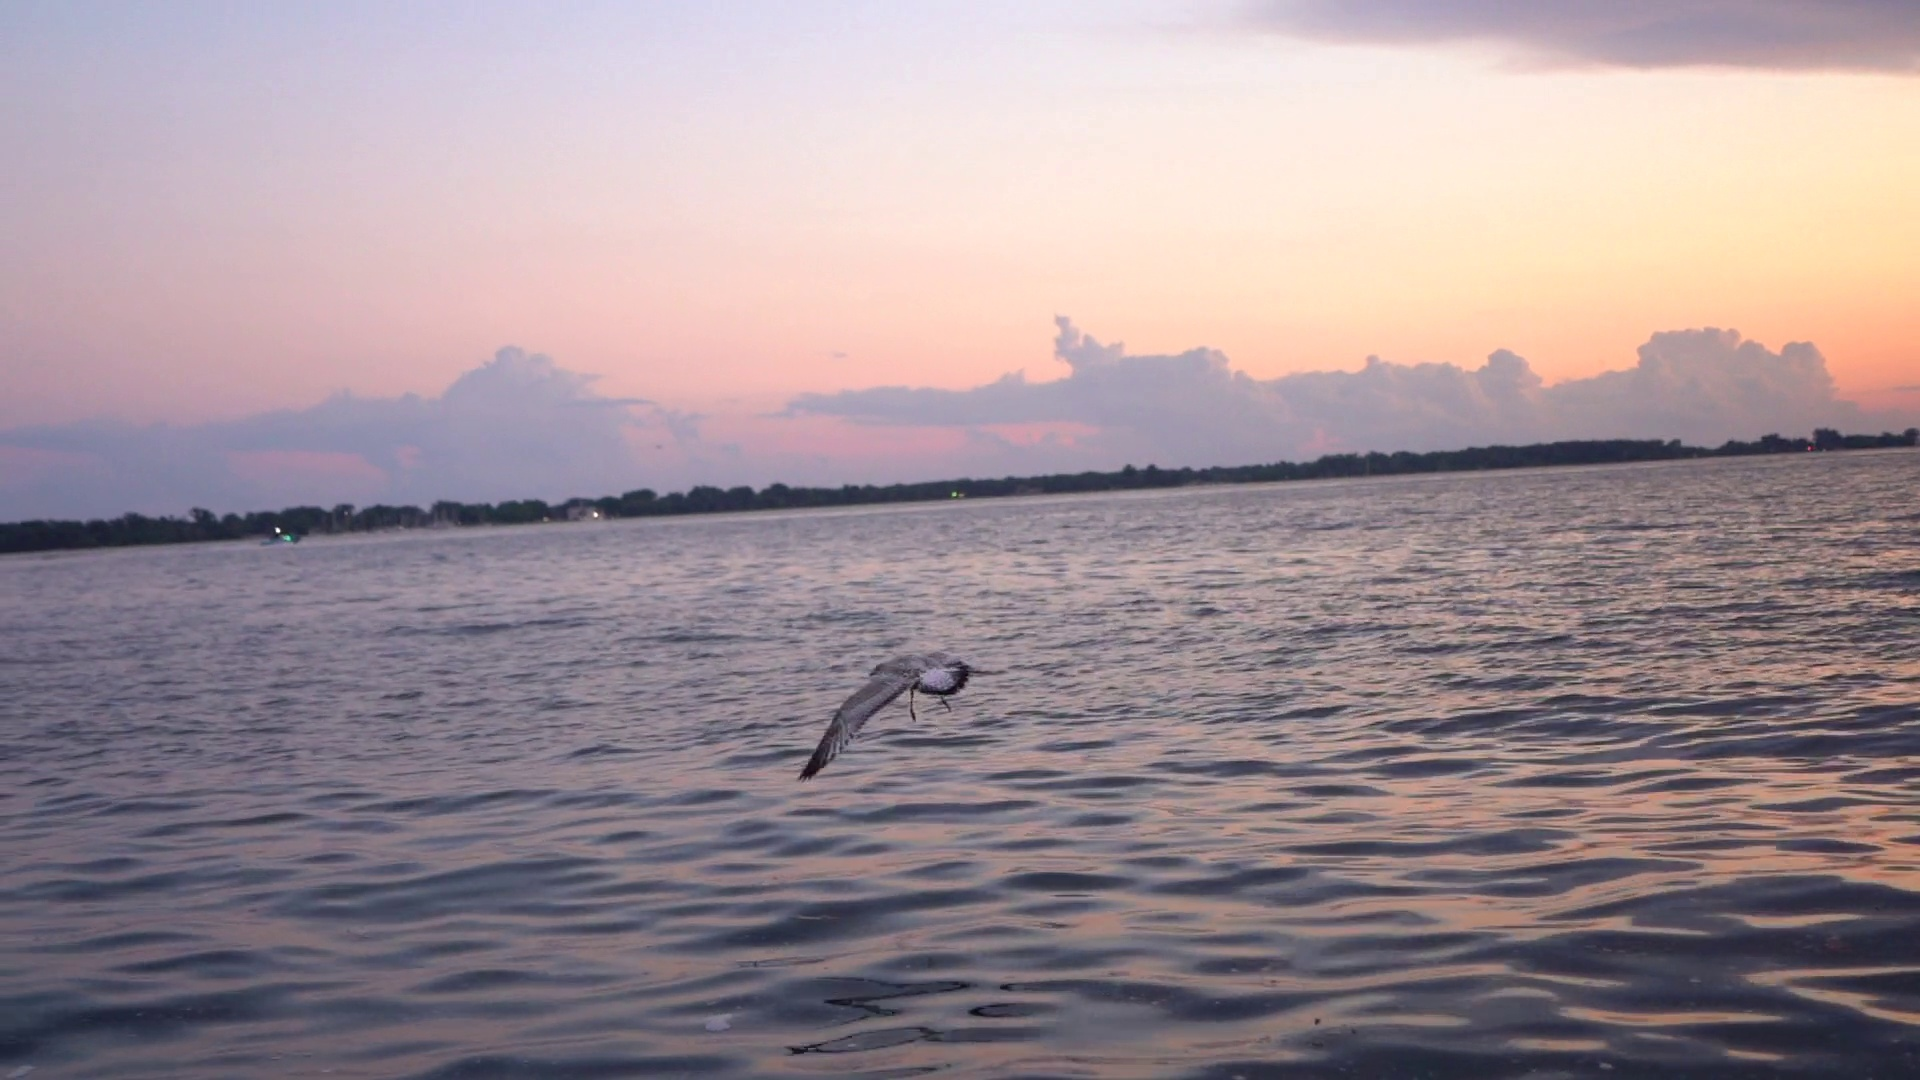bird: (795, 653, 968, 781)
